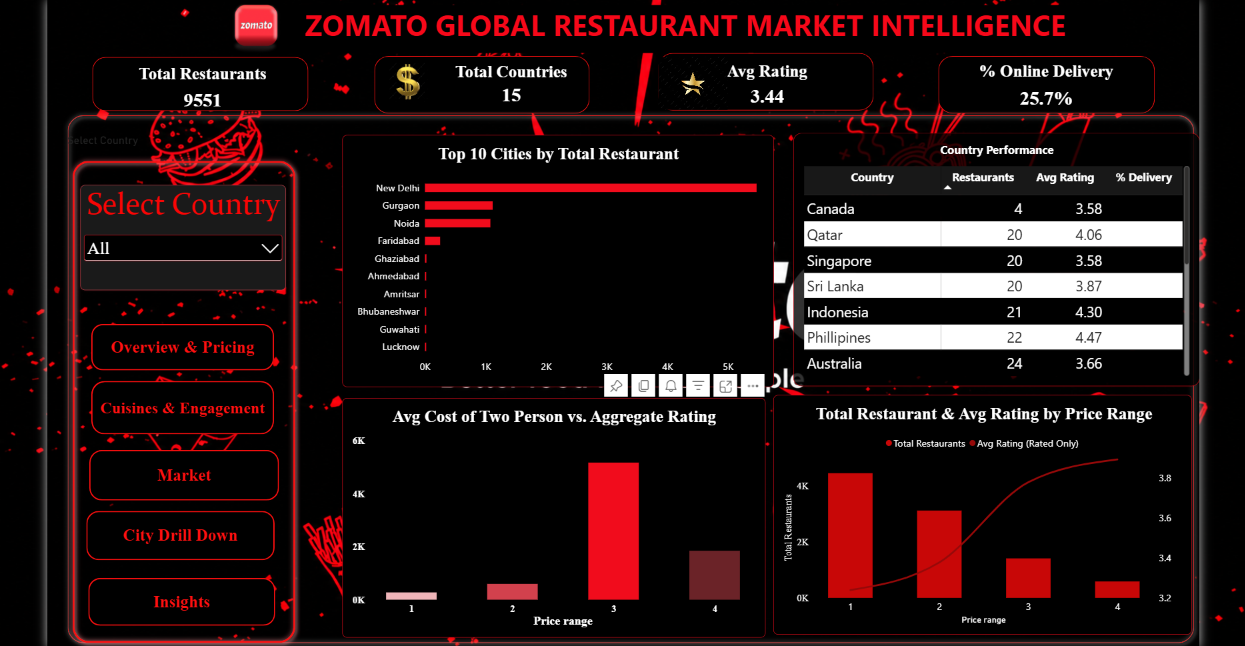

What the dashboard file says about the page in this screenshot:
{"tool":"powerbi","page":{"name":"Executive Overview","canvas":[1920,1080],"ordinal":4},"visuals":[{"type":"textbox","box":[332.5,7.5,1460,80],"z":0},{"type":"shape","box":[75,95,360,90],"z":1000},{"type":"shape","box":[1485,92.5,360.8,95.8],"z":3000},{"type":"shape","box":[1017.5,87.5,358.7,95.8],"z":4000},{"type":"shape","box":[545,92.5,358.7,95.8],"z":5000},{"type":"card","title":"Total Restaurants","fields":{"Values":["CountNonNull(zomato.Restaurant ID)"]},"box":[117.5,92.5,281.3,99.9],"z":6000},{"type":"shape","box":[24.7,182.7,1894.9,897.3],"z":7000},{"type":"shape","title":"Select Country","box":[32.5,222.5,388.7,857],"z":8000},{"type":"shape","box":[69.2,749.2,316.1,84.3],"z":9000},{"type":"shape","box":[74,634.7,304.4,89],"z":10000},{"type":"shape","title":"Overview & Pricing","box":[74,539.2,304.4,77.3],"z":11000},{"type":"barChart","title":"Top 10 Cities by Total Restaurant","fields":{"Category":["zomato.City"],"Y":["zomato.Total Restaurant"]},"box":[491.2,224.2,719.5,419.9],"z":13000},{"type":"clusteredColumnChart","title":"Avg Cost of Two Person vs. Aggregate Rating","fields":{"Category":["zomato.Price range"],"Y":["Avg(zomato.Average Cost for two people)"]},"box":[491.7,662.6,705.2,399.5],"z":14000},{"type":"lineClusteredColumnComboChart","title":"Total Restaurant & Avg Rating by Price Range","fields":{"Category":["zomato.Price range"],"Y":["zomato.Total Restaurant"],"Y2":["zomato.Avg Rating (Rated Only)"]},"box":[1210.7,658.3,697.1,399.5],"z":15000},{"type":"shape","box":[64.4,851.8,313.8,82],"z":21000},{"type":"card","title":"Total Countries","fields":{"Values":["zomato.Total Countries"]},"box":[642.5,90,259.9,105.4],"z":24000},{"type":"card","title":"Avg Rating","fields":{"Values":["zomato.Avg RAting"]},"box":[1050,87.5,299.7,112.4],"z":25000},{"type":"card","title":"% Online Delivery","fields":{"Values":["zomato.% Online Delivery"]},"box":[1515,87.5,299.7,119.4],"z":26000},{"type":"slicer","title":"Select Country","fields":{"Values":["Sheet1.Country"]},"box":[55,307.5,342.5,175],"z":29000},{"type":"shape","box":[67.5,962.5,311.4,79.6],"z":30000},{"type":"image","box":[273.3,0,148.2,88.9],"z":37000},{"type":"image","box":[545,102.5,112,65.9],"z":38000},{"type":"image","box":[1017.5,95,115.1,88.2],"z":42000},{"type":"tableEx","title":"Country Performance","fields":{"Values":["Sheet1.Country","zomato.Total Restaurants","zomato.Avg Rating (Rated Only)","zomato.% Online Delivery"]},"box":[1243.1,221.9,677.6,422.3],"z":42001}]}

Visuals, with their boxes on the page's 1920x1080 design canvas (x1, y1, x2, y2). These are canvas units, not pixel positions in the 1245x646 screenshot, which may show the page scaled, cropped or inside an application window:
textbox: 332, 8, 1792, 88
shape: 75, 95, 435, 185
shape: 1485, 92, 1846, 188
shape: 1018, 88, 1376, 183
shape: 545, 92, 904, 188
"Total Restaurants" card: 118, 92, 399, 192
shape: 25, 183, 1920, 1080
"Select Country" shape: 32, 222, 421, 1080
shape: 69, 749, 385, 834
shape: 74, 635, 378, 724
"Overview & Pricing" shape: 74, 539, 378, 616
"Top 10 Cities by Total Restaurant" barChart: 491, 224, 1211, 644
"Avg Cost of Two Person vs. Aggregate Rating" clusteredColumnChart: 492, 663, 1197, 1062
"Total Restaurant & Avg Rating by Price Range" lineClusteredColumnComboChart: 1211, 658, 1908, 1058
shape: 64, 852, 378, 934
"Total Countries" card: 642, 90, 902, 195
"Avg Rating" card: 1050, 88, 1350, 200
"% Online Delivery" card: 1515, 88, 1815, 207
"Select Country" slicer: 55, 308, 398, 482
shape: 68, 962, 379, 1042
image: 273, 0, 422, 89
image: 545, 102, 657, 168
image: 1018, 95, 1133, 183
"Country Performance" tableEx: 1243, 222, 1921, 644
